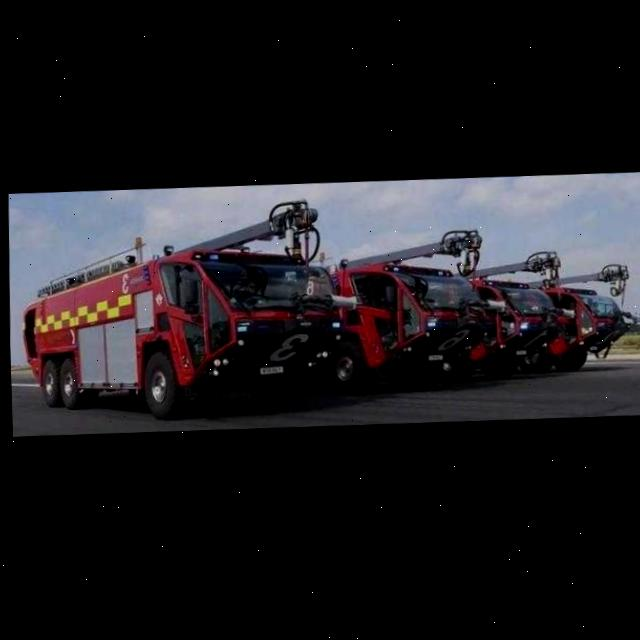emergency: (14, 193, 345, 428), (302, 228, 496, 402), (428, 252, 562, 388), (504, 266, 629, 378)
